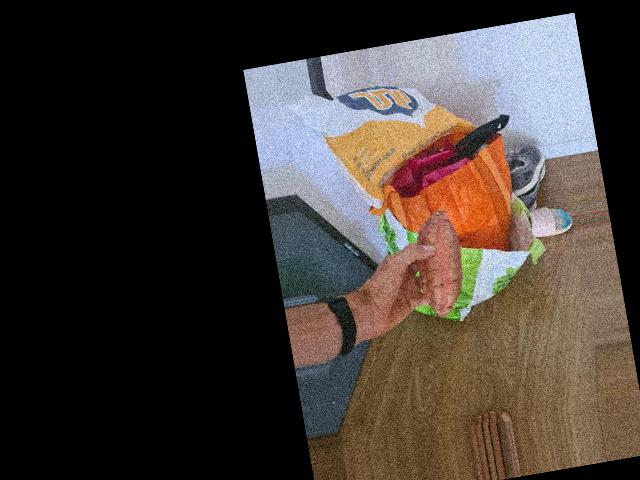sweet_potato: (404, 207, 469, 323)
